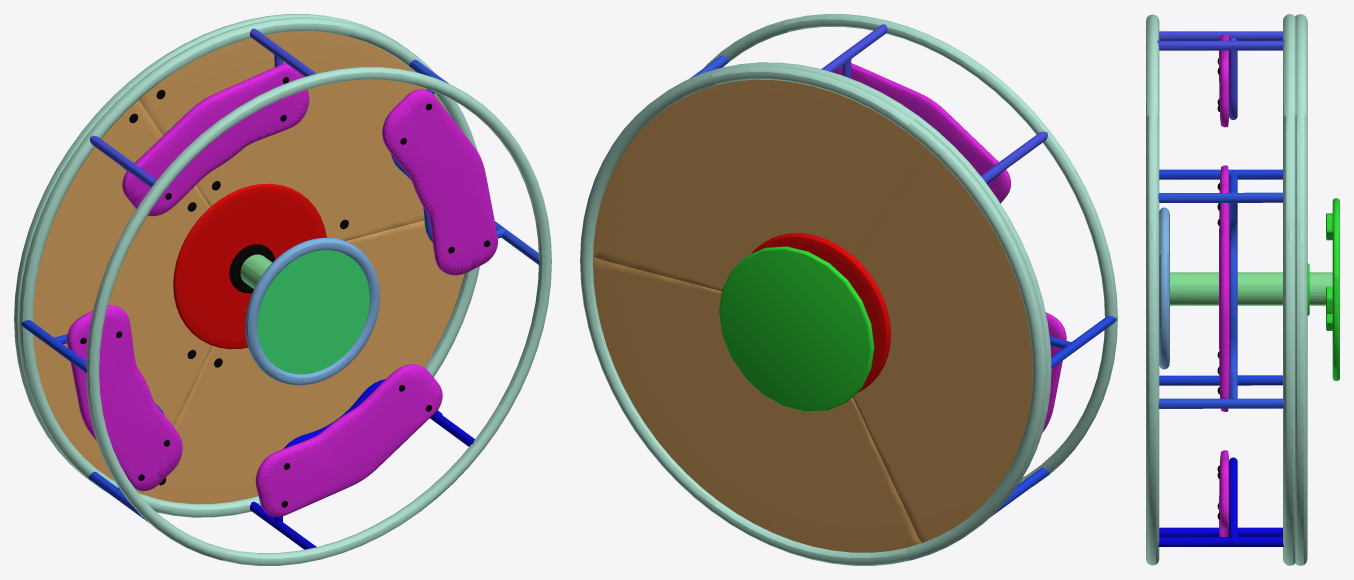
File: bingbing.fbx
The picture shows the model from 3 angles, left to right: view 1: azimuth 30°, elevation 25°; view 2: azimuth 150°, elevation 25°; view 3: azimuth 270°, elevation 25°; orthographic projection. The views are drawn at different scales.
Parts seen in each view (by area): view 1: Carousel N070215; view 2: Carousel N070215; view 3: Carousel N070215.
Part boxes in pixels (x1,y1,x2,y2): Carousel N070215: (14,14,551,565); Carousel N070215: (580,14,1117,565); Carousel N070215: (1146,14,1339,565).
Bounding box in the file's own units: 6631 × 6631 × 2330.
